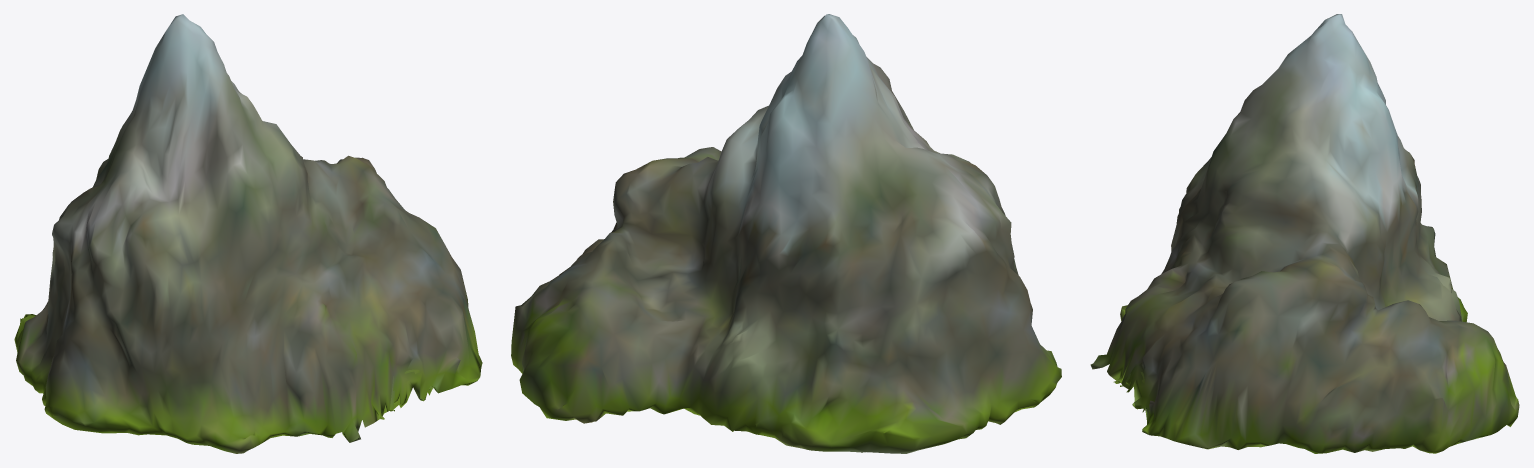
3 views of the same model, side by side, from view 1: azimuth 30°, elevation 25°; view 2: azimuth 150°, elevation 25°; view 3: azimuth 270°, elevation 25° (orthographic). The views are drawn at different scales.
Visible parts, largest first — view 1: PM3D_Plane3D1_40; view 2: PM3D_Plane3D1_40; view 3: PM3D_Plane3D1_40.
Boxes of the visible parts, bbox=[...] form: PM3D_Plane3D1_40: bbox=[14, 14, 482, 453]; PM3D_Plane3D1_40: bbox=[511, 14, 1061, 453]; PM3D_Plane3D1_40: bbox=[1090, 14, 1519, 453].
Size of the model in its own units: 87.46 by 71.48 by 82.73.
